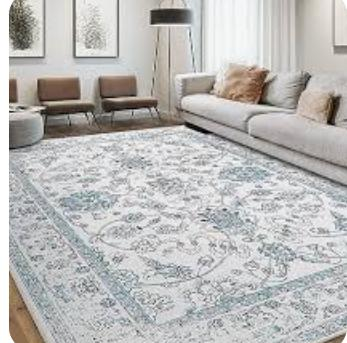carpet: (11, 126, 347, 342)
